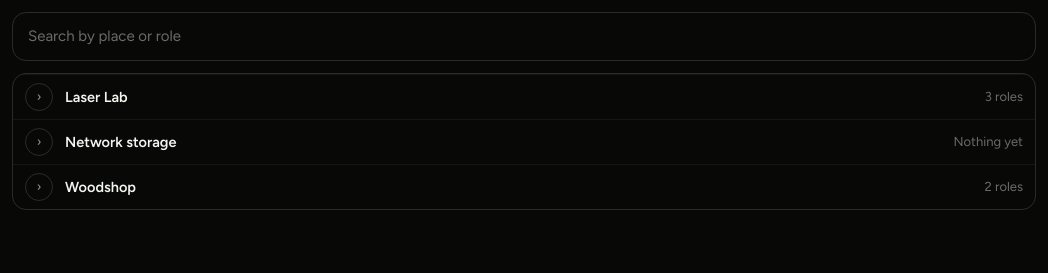
Test: RolePicker · single choice › an empty place says so, once opened
The image size is (1048, 273).
Click the button "› Network storage Nothing yet". click: (121, 142)
box: [13,120,1035,164]
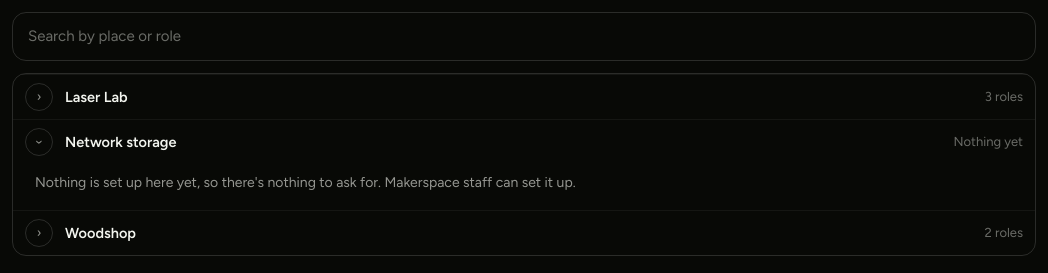
Check: the text "Nothing is set up here yet, so there's nothing to ask for. Makerspace staff can set it up." is shown, box [35,174,576,191]
